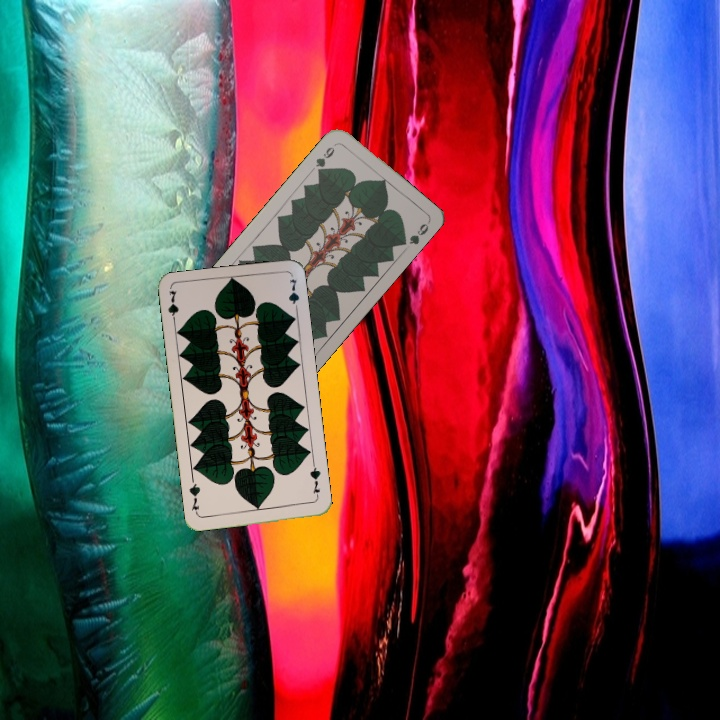G7: (306, 460, 323, 501), (164, 287, 181, 328)
G9: (312, 140, 339, 177)
